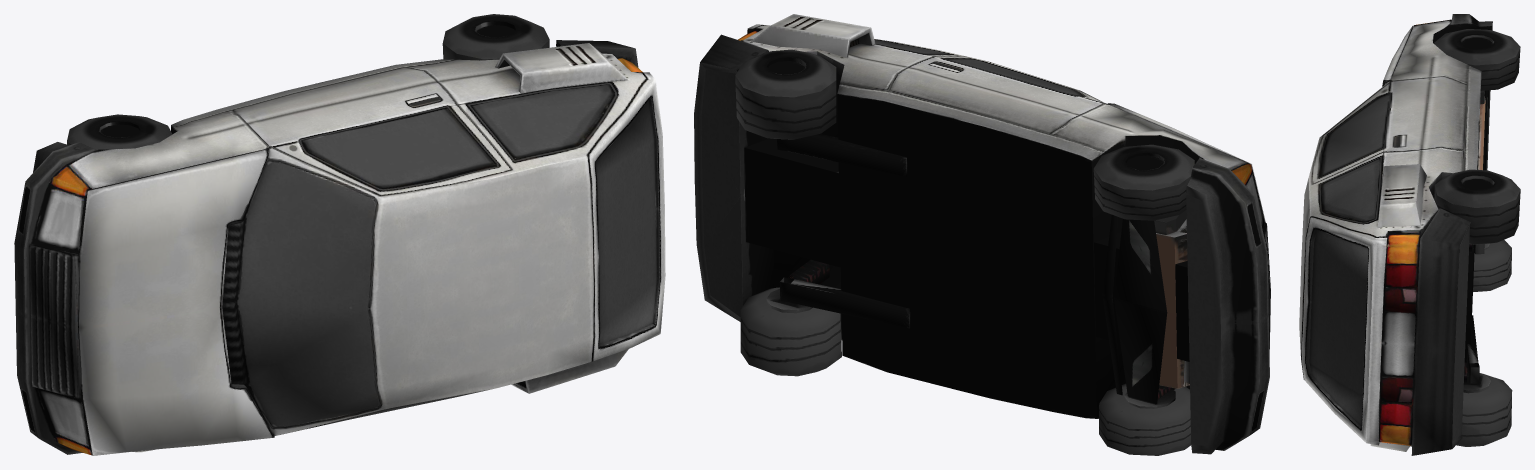
The model's file is asset.glb.
3 renders of one model, left to right at view 1: azimuth 30°, elevation 25°; view 2: azimuth 150°, elevation 25°; view 3: azimuth 270°, elevation 25°, orthographic. The views are drawn at different scales.
Parts seen in each view (by area): view 1: Object_2; view 2: Object_2; view 3: Object_2.
Part boxes in pixels (x1,y1,x2,y2): Object_2: [14, 14, 665, 455]; Object_2: [694, 14, 1270, 455]; Object_2: [1299, 14, 1520, 455].
Size of the model in its own units: 49.41 by 25.61 by 19.63.
Materials: 1 (1 with a texture image).
